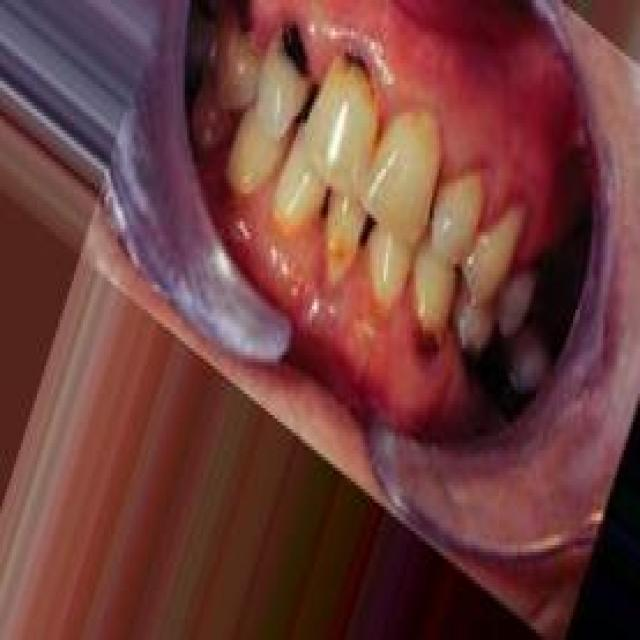caries: (268, 14, 316, 96), (335, 38, 381, 108), (413, 307, 457, 377)
